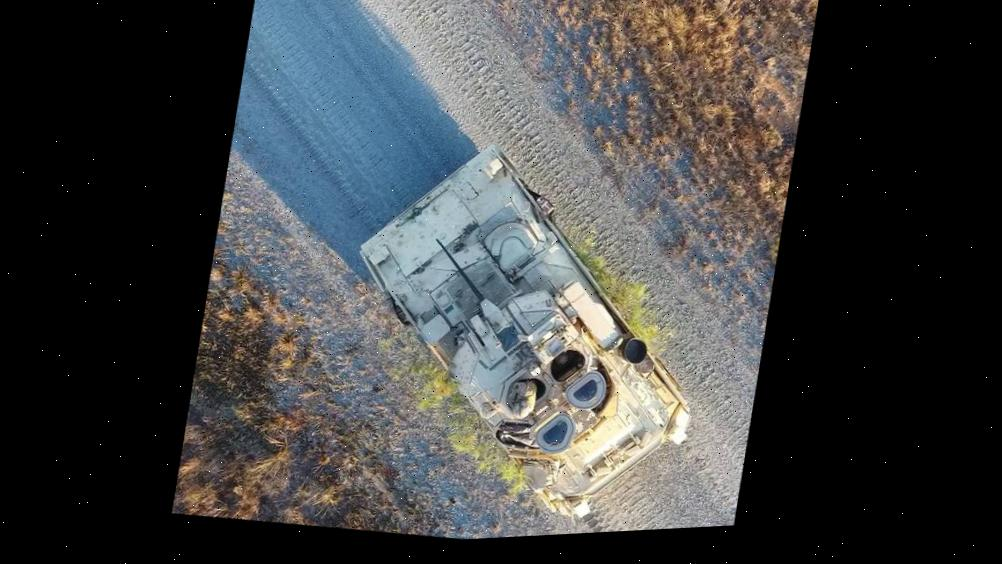armored_car: (315, 112, 741, 547)
